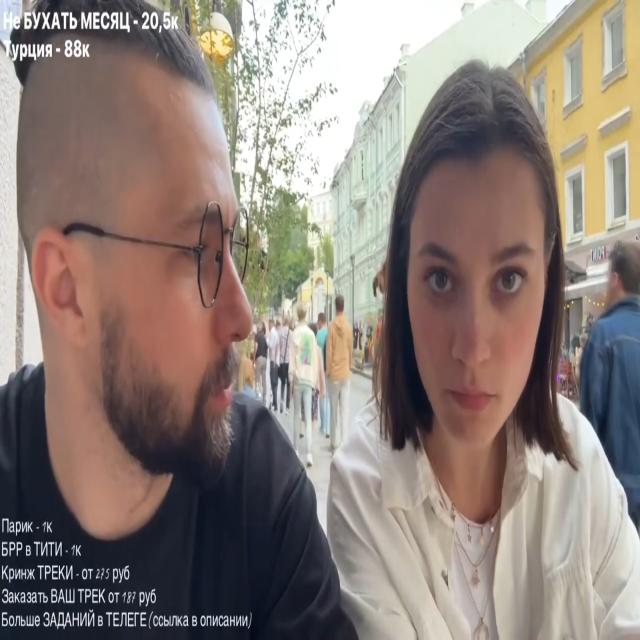Person: (0, 1, 381, 640), (297, 79, 640, 640), (577, 237, 640, 543), (286, 307, 326, 445), (321, 298, 355, 443), (267, 322, 292, 414)
